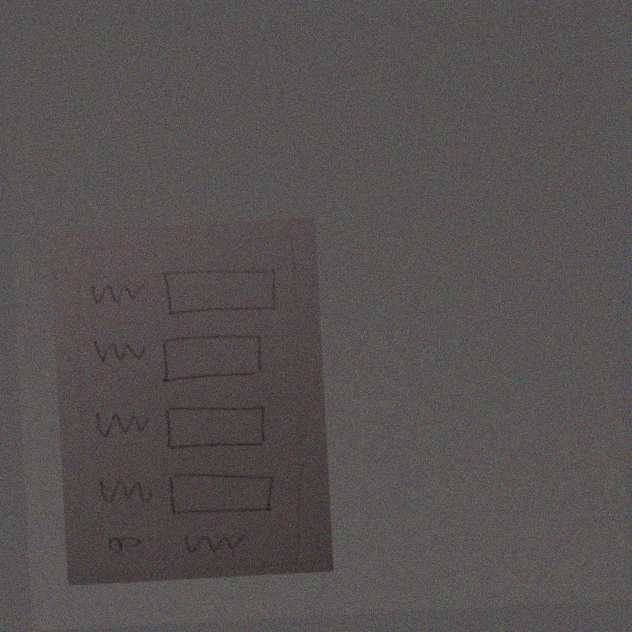switch: (96, 530, 150, 559)
text: (174, 528, 259, 564), (90, 403, 153, 445), (92, 473, 157, 511), (86, 333, 150, 371), (87, 276, 152, 311)
text_input: (157, 260, 285, 320), (160, 396, 275, 461), (163, 464, 281, 527), (158, 329, 269, 389)
